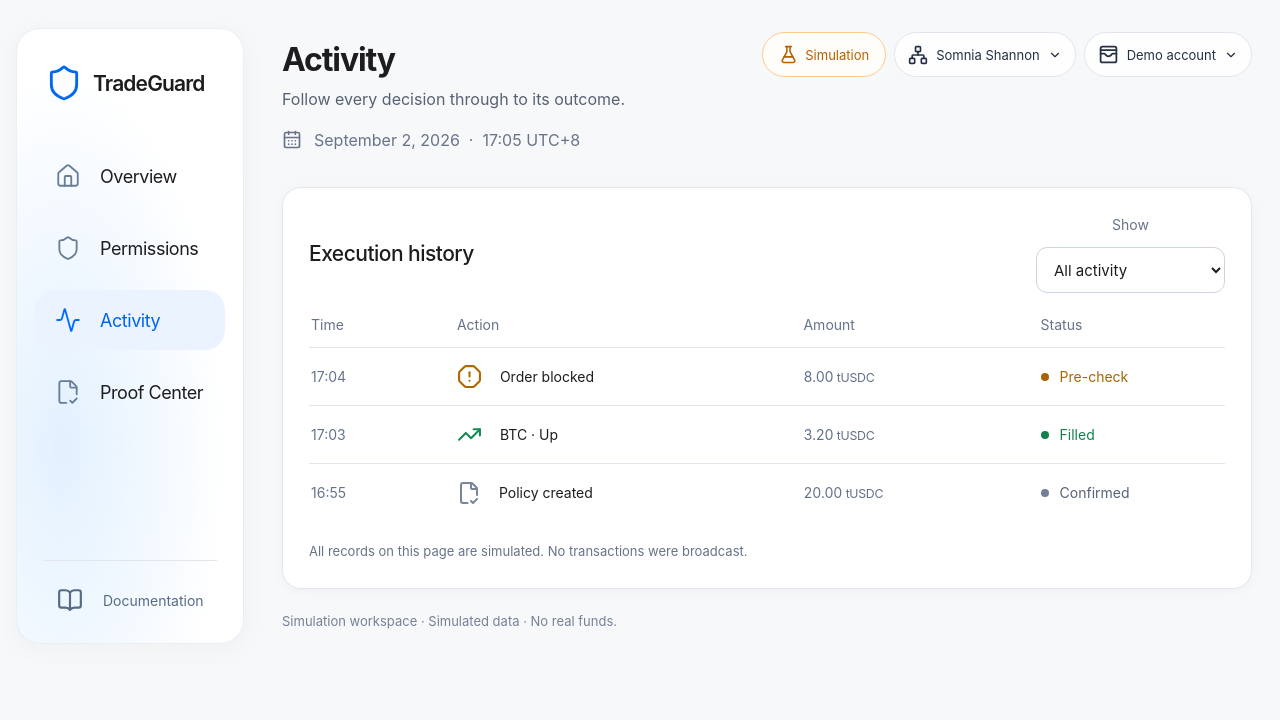
Test: working product flows › filters activity and labels non-chain evidence
Step 1. Select "Blocked & reverted" in the dropdown named "Filter activity" → {"x": 1130, "y": 270}, box [1036,247,1225,293]
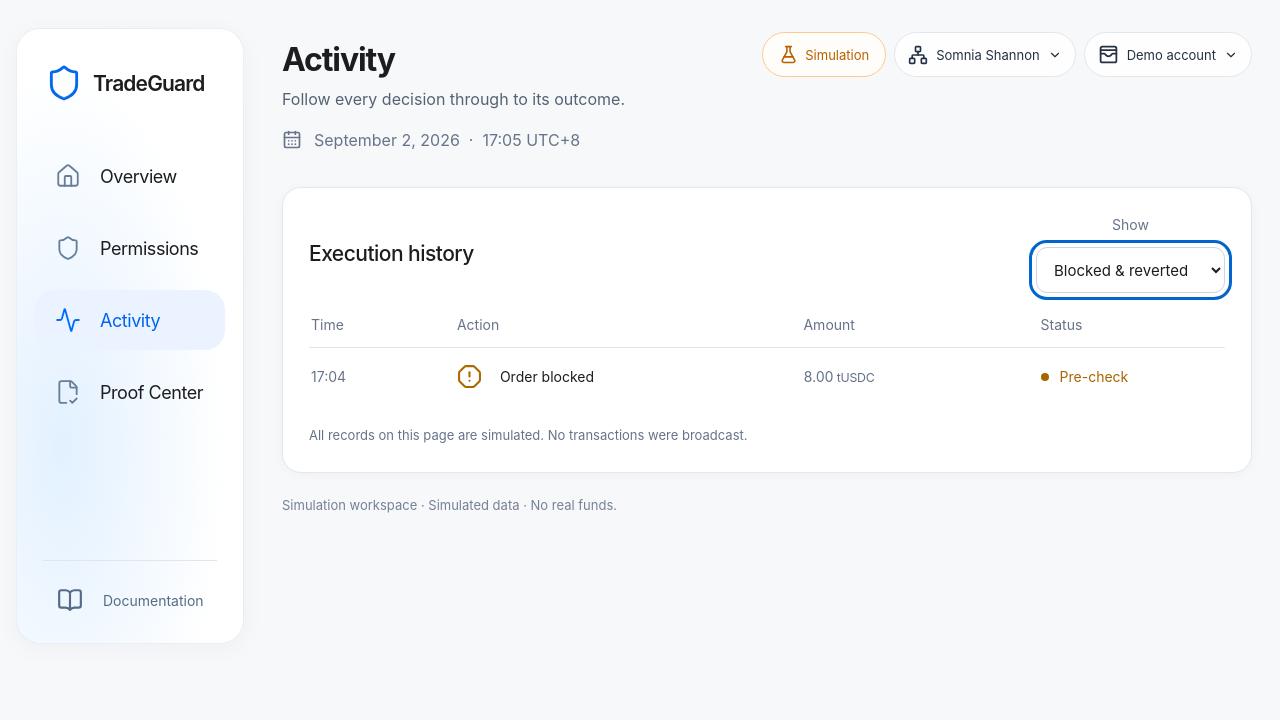
Check: the button "17:03 BTC" is gone
Step 2. Click the button "17:04 Order blocked 8.00 tUSDC Pre-check" → {"x": 329, "y": 376}, box [309,347,1225,405]
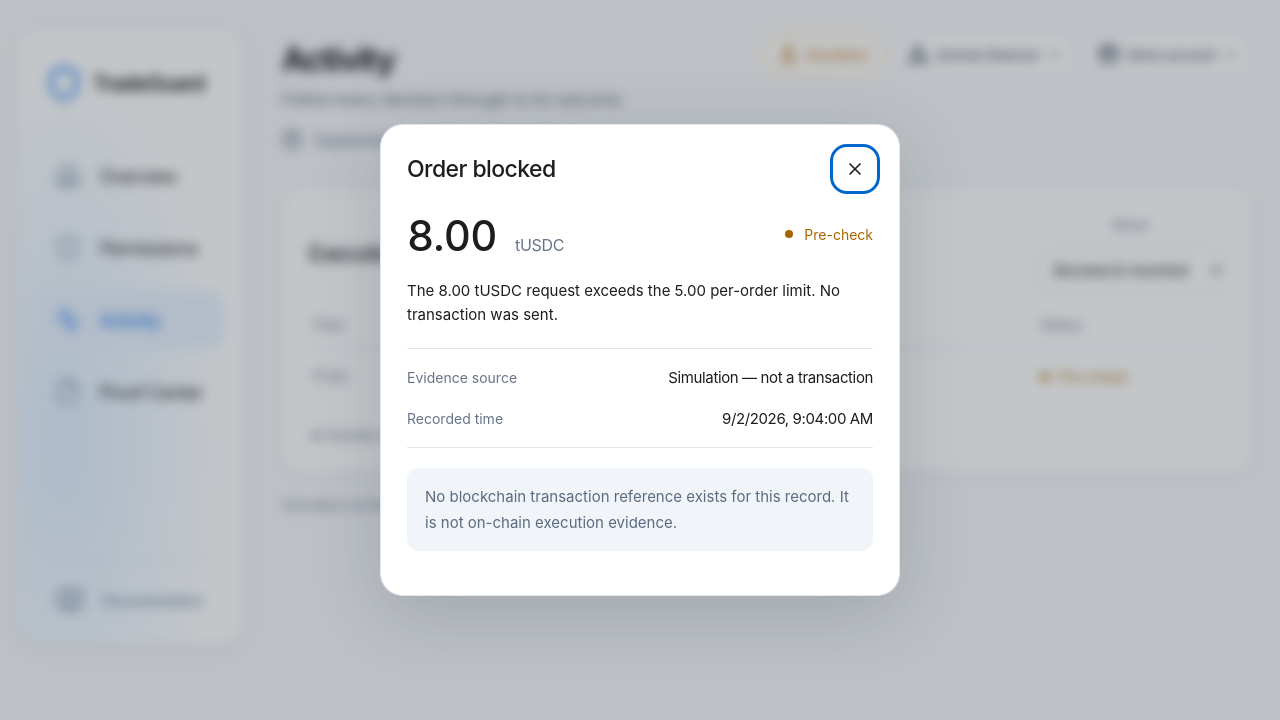
Check: the dialog shows "Simulation — not a transaction", box [668,368,873,387]
